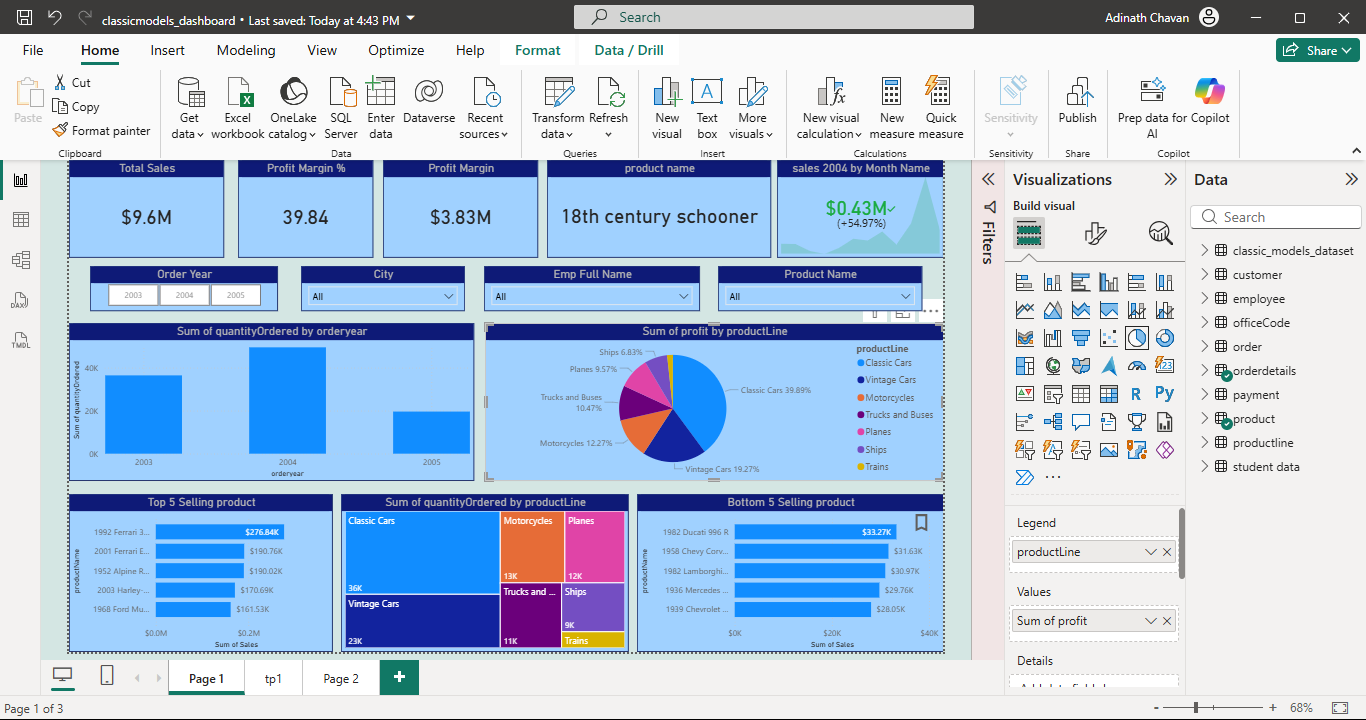

The dashboard page shown, as its layout file describes it:
{"tool":"powerbi","page":{"name":"Page 1","canvas":[1280,720],"ordinal":0},"visuals":[{"type":"clusteredBarChart","title":"Top 5 Selling product","fields":{"Category":["product.productName"],"Y":["Sum(orders.Sales)"]},"box":[0,488.8,386.3,231.2],"z":0},{"type":"pieChart","fields":{"Category":["product.productLine"],"Y":["Sum(orders.profit)"]},"box":[608.8,238.5,671.7,231.2],"z":1000},{"type":"card","title":"Profit Margin","fields":{"Values":["Sum(orderdetails.profit)"]},"box":[459.5,0,226.8,143.4],"z":2000},{"type":"actionButton","box":[0,0,100,40],"z":3000},{"type":"card","title":"product name","fields":{"Values":["Min(product.productName)"]},"box":[699.8,0,328.3,142.6],"z":4000},{"type":"slicer","title":"Order Year","fields":{"Values":["order.orderyear"]},"box":[30.7,155.1,275.1,65.9],"z":5000},{"type":"kpi","title":"sales 2004 by Month Name","fields":{"Goal":["order.sales_2003"],"TrendLine":["order.Month Name"],"Indicator":["order.sales_2004"]},"box":[1036.1,0,244.4,143.4],"z":6000},{"type":"treemap","fields":{"Group":["product.productLine"],"Values":["Sum(orderdetails.quantityOrdered)"]},"box":[398,488.8,421.5,231.2],"z":7000},{"type":"columnChart","fields":{"Category":["order.orderyear"],"Y":["Sum(orderdetails.quantityOrdered)"]},"box":[0,238.5,592.7,231.2],"z":9000},{"type":"card","title":"Profit Margin %","fields":{"Values":["classic_models_dataset.Profit_Margin_%"]},"box":[247.3,0,197.6,143.4],"z":10000},{"type":"card","title":"Total Sales","fields":{"Values":["Sum(orderdetails.Sales)"]},"box":[0,0,226.8,143.4],"z":11000},{"type":"slicer","title":"City","fields":{"Values":["customer.city"]},"box":[339.5,155.1,240,65.9],"z":12000},{"type":"slicer","title":"Emp Full Name","fields":{"Values":["employee.FullName"]},"box":[607.3,155.1,316.1,65.9],"z":13000},{"type":"slicer","title":"Product Name","fields":{"Values":["product.productLine"]},"box":[949.8,155.1,298.5,65.9],"z":14000},{"type":"clusteredBarChart","title":"Bottom 5 Selling product","fields":{"Category":["product.productName"],"Y":["Sum(orders.Sales)"]},"box":[831.2,488.8,449.3,231.2],"z":15000},{"type":"actionButton","box":[1230.7,513.7,49.8,33.7],"z":16001}]}

Visuals, with their boxes on the page's 1280x720 design canvas (x1, y1, x2, y2). These are canvas units, not pixel positions in the 1366x720 screenshot, which may show the page scaled, cropped or inside an application window:
"Top 5 Selling product" clusteredBarChart: region(0, 489, 386, 720)
pieChart - product.productLine x Sum(orders.profit): region(609, 238, 1280, 470)
"Profit Margin" card: region(460, 0, 686, 143)
actionButton: region(0, 0, 100, 40)
"product name" card: region(700, 0, 1028, 143)
"Order Year" slicer: region(31, 155, 306, 221)
"sales 2004 by Month Name" kpi: region(1036, 0, 1280, 143)
treemap - product.productLine x Sum(orderdetails.quantityOrdered): region(398, 489, 820, 720)
columnChart - order.orderyear x Sum(orderdetails.quantityOrdered): region(0, 238, 593, 470)
"Profit Margin %" card: region(247, 0, 445, 143)
"Total Sales" card: region(0, 0, 227, 143)
"City" slicer: region(340, 155, 580, 221)
"Emp Full Name" slicer: region(607, 155, 923, 221)
"Product Name" slicer: region(950, 155, 1248, 221)
"Bottom 5 Selling product" clusteredBarChart: region(831, 489, 1280, 720)
actionButton: region(1231, 514, 1280, 547)
